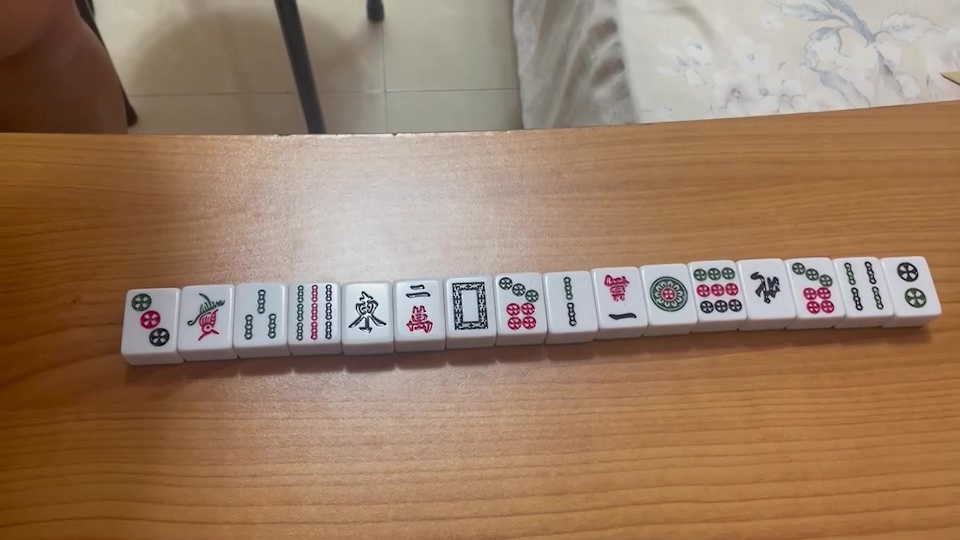b-1: (180, 289, 228, 346)
b-2: (554, 270, 590, 327)
b-3: (240, 285, 283, 343)
b-4: (845, 260, 886, 315)
b-9: (290, 283, 337, 342)
c-1: (598, 271, 643, 322)
c-2: (397, 282, 438, 333)
d-1: (646, 274, 690, 315)
d-2: (893, 261, 930, 310)
d-3: (124, 290, 174, 348)
d-7: (496, 274, 544, 332), (794, 261, 836, 316)
d-9: (694, 266, 742, 317)
honors-east: (348, 289, 386, 340)
honors-north: (747, 265, 786, 310)
honors-white: (448, 279, 492, 333)
